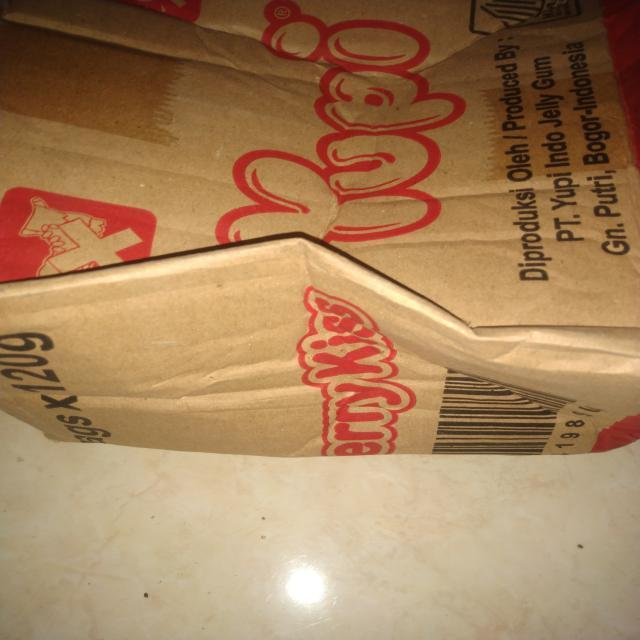box: (14, 2, 640, 617)
opened: (222, 2, 638, 385)
